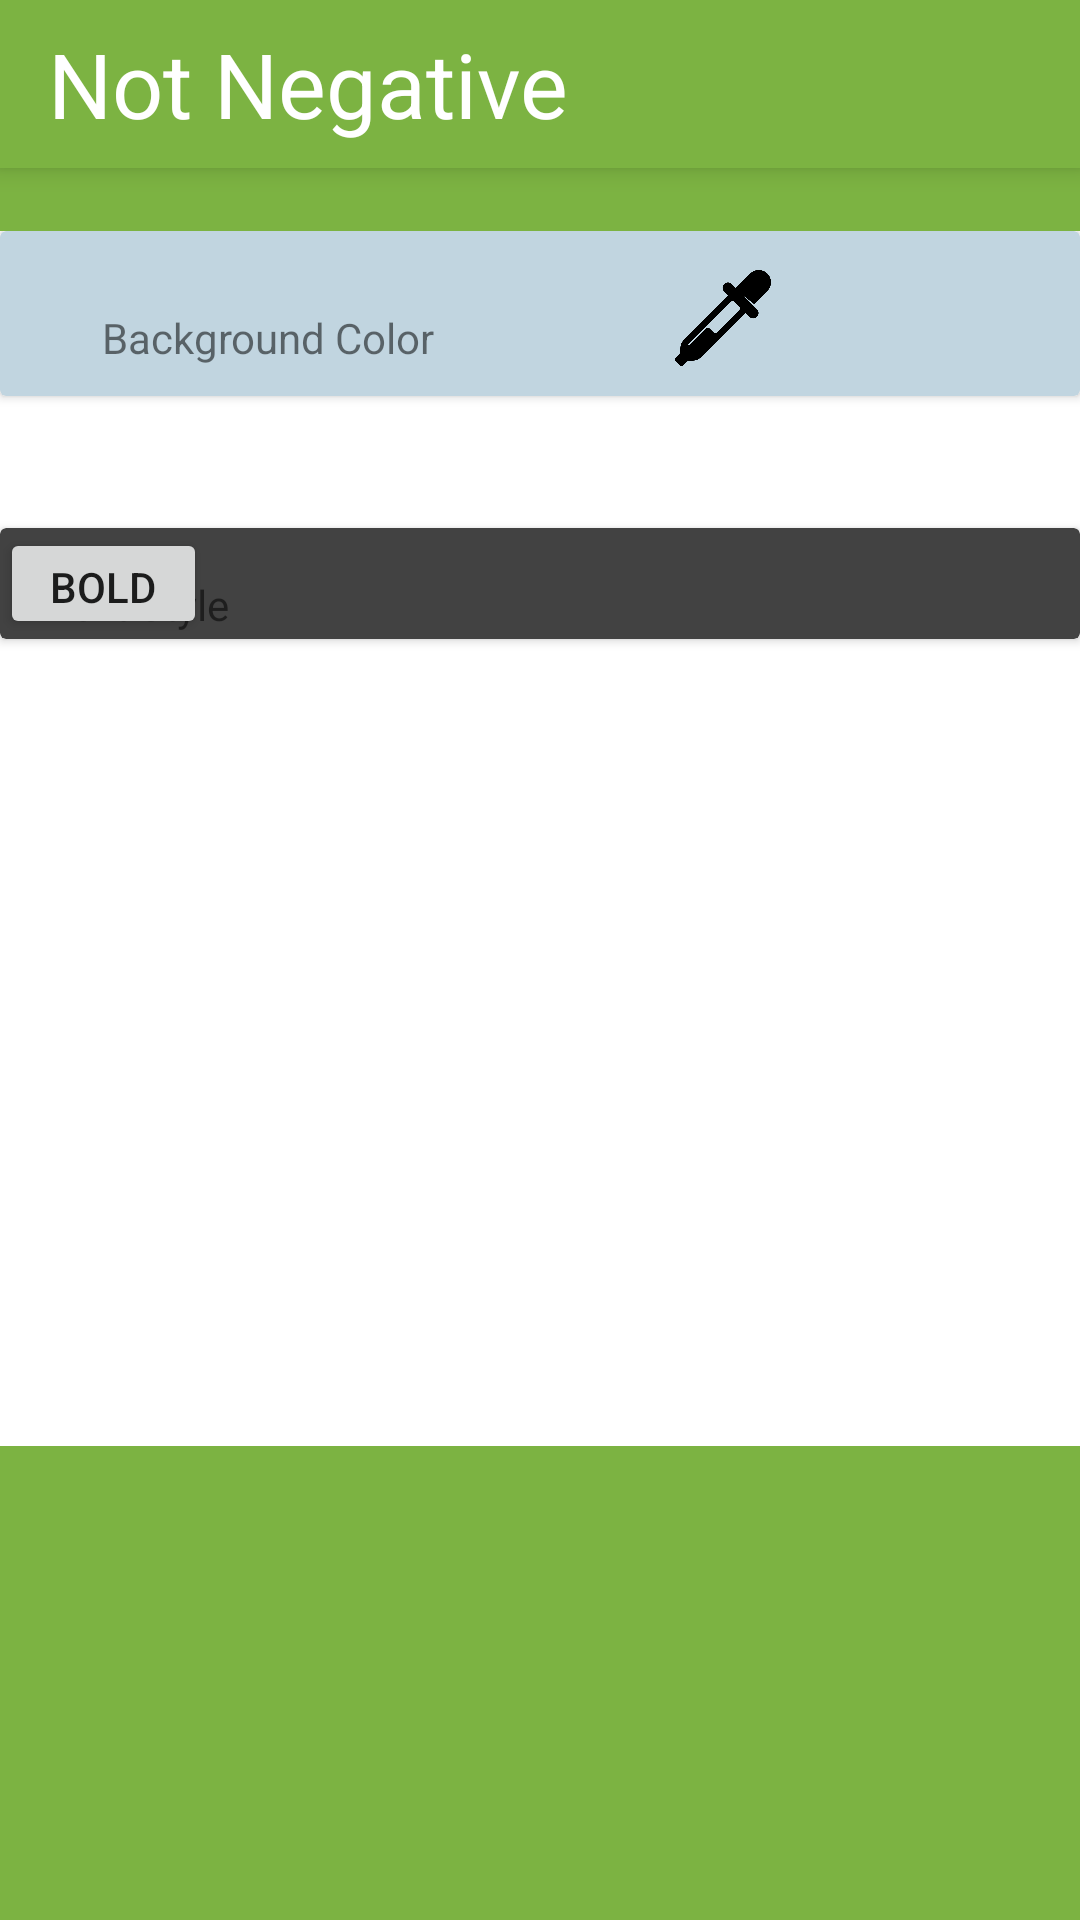

Icons on this 1080 x 1920 Android screen, each with the point to tap as [x,y]:
coloricon: [723,318]
